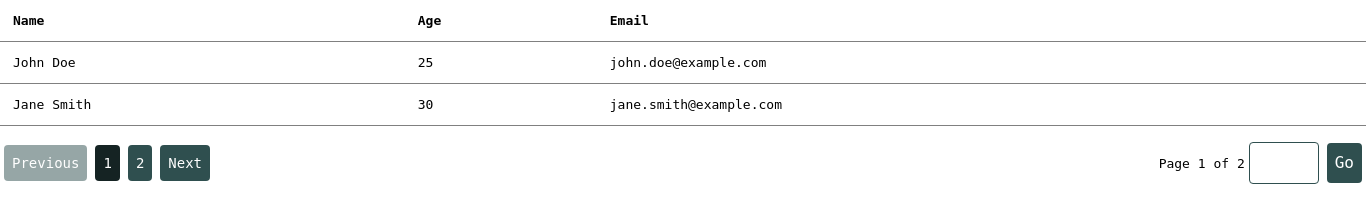
Table component › handles page change when pagination buttons are clicked
This screenshot has width=1366, height=201.
Expected: the button "1" is shown, [95,145,120,181]
Note: Next page
Click the button "Next" at (185,163), box [160,145,210,181]
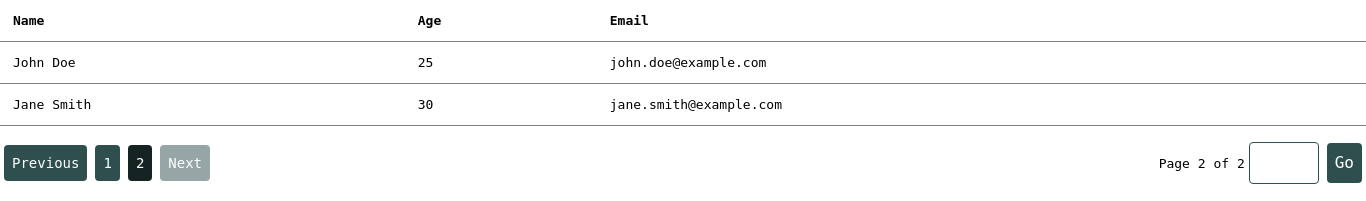
Expected: the button "2" is shown, [128,145,152,181]
Note: Previous page
Click the button "Previous" at (46,163), box [4,145,87,181]
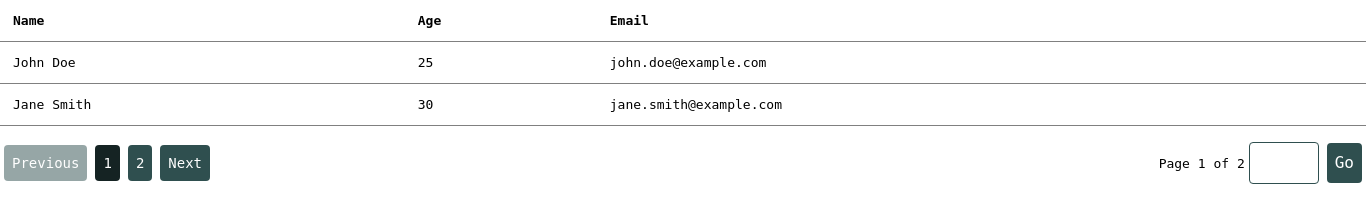
Expected: the button "1" is shown, [95,145,120,181]
Note: Go to last page
Click the button "2" at (140,163), box [128,145,152,181]
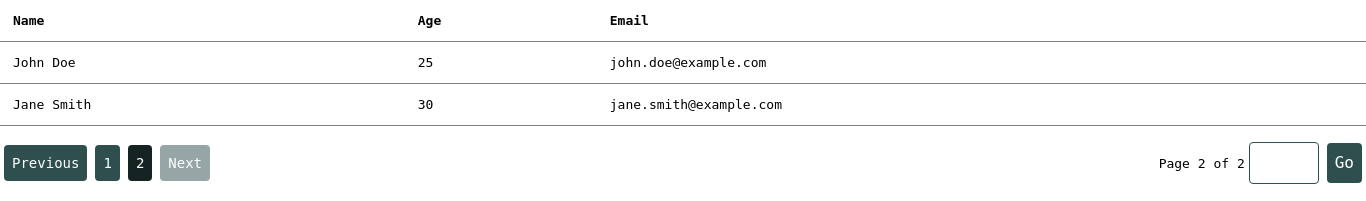
Expected: the button "Next" is disabled, [160,145,210,181]
Note: Go back to the first page
Click the button "1" at (108,163), box [95,145,120,181]
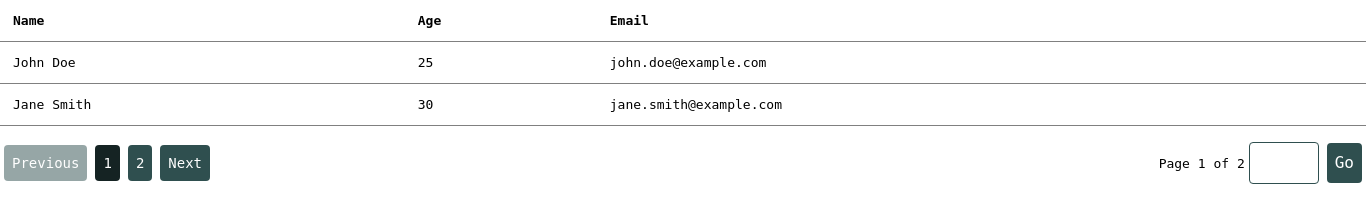
Expected: the button "Previous" is disabled, [4,145,87,181]
